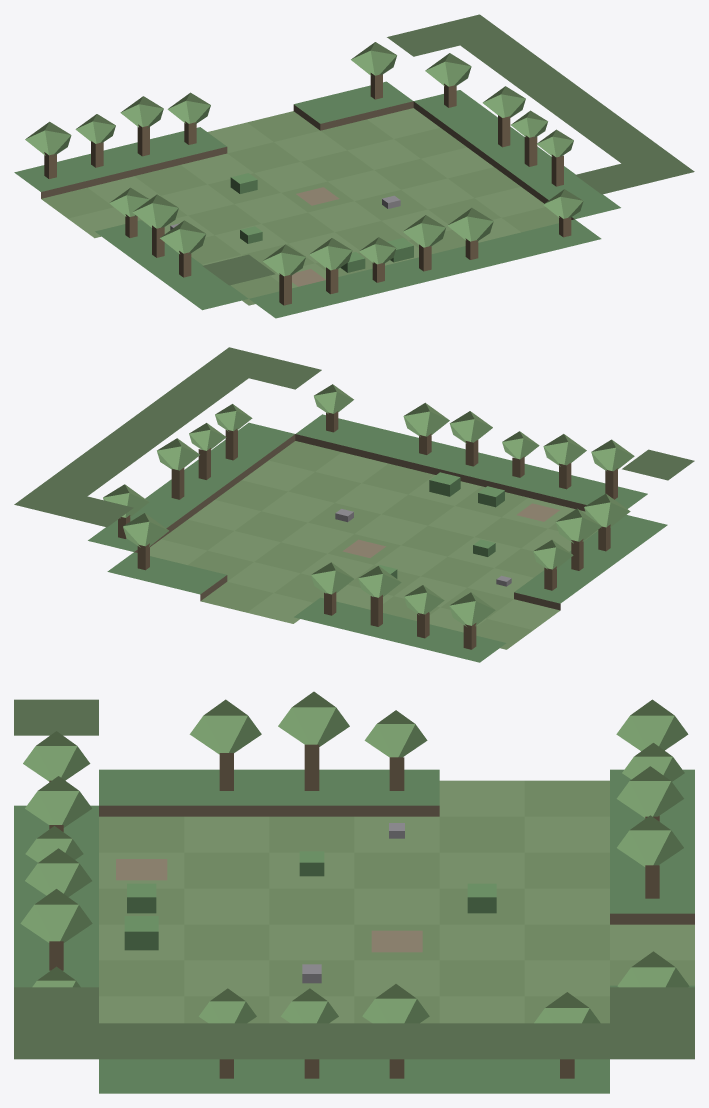
3 renders of one model, top to bottom at view 1: azimuth 30°, elevation 25°; view 2: azimuth 150°, elevation 25°; view 3: azimuth 270°, elevation 25°, orthographic. The views are drawn at different scales.
Parts seen in each view (by area): view 1: mesh0; view 2: mesh0; view 3: mesh0.
Part boxes in pixels (x1,y1,x2,y2): mesh0: [14, 14, 694, 318]; mesh0: [14, 347, 694, 662]; mesh0: [14, 691, 694, 1093].
Size of the model in its own units: 10 by 1.38 by 8.
